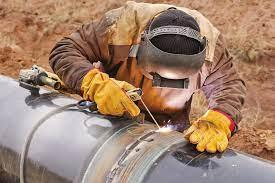gloves: (80, 68, 143, 117), (183, 108, 236, 154)
